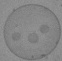small: (27, 32, 38, 42), (38, 24, 49, 33), (12, 33, 21, 41)
